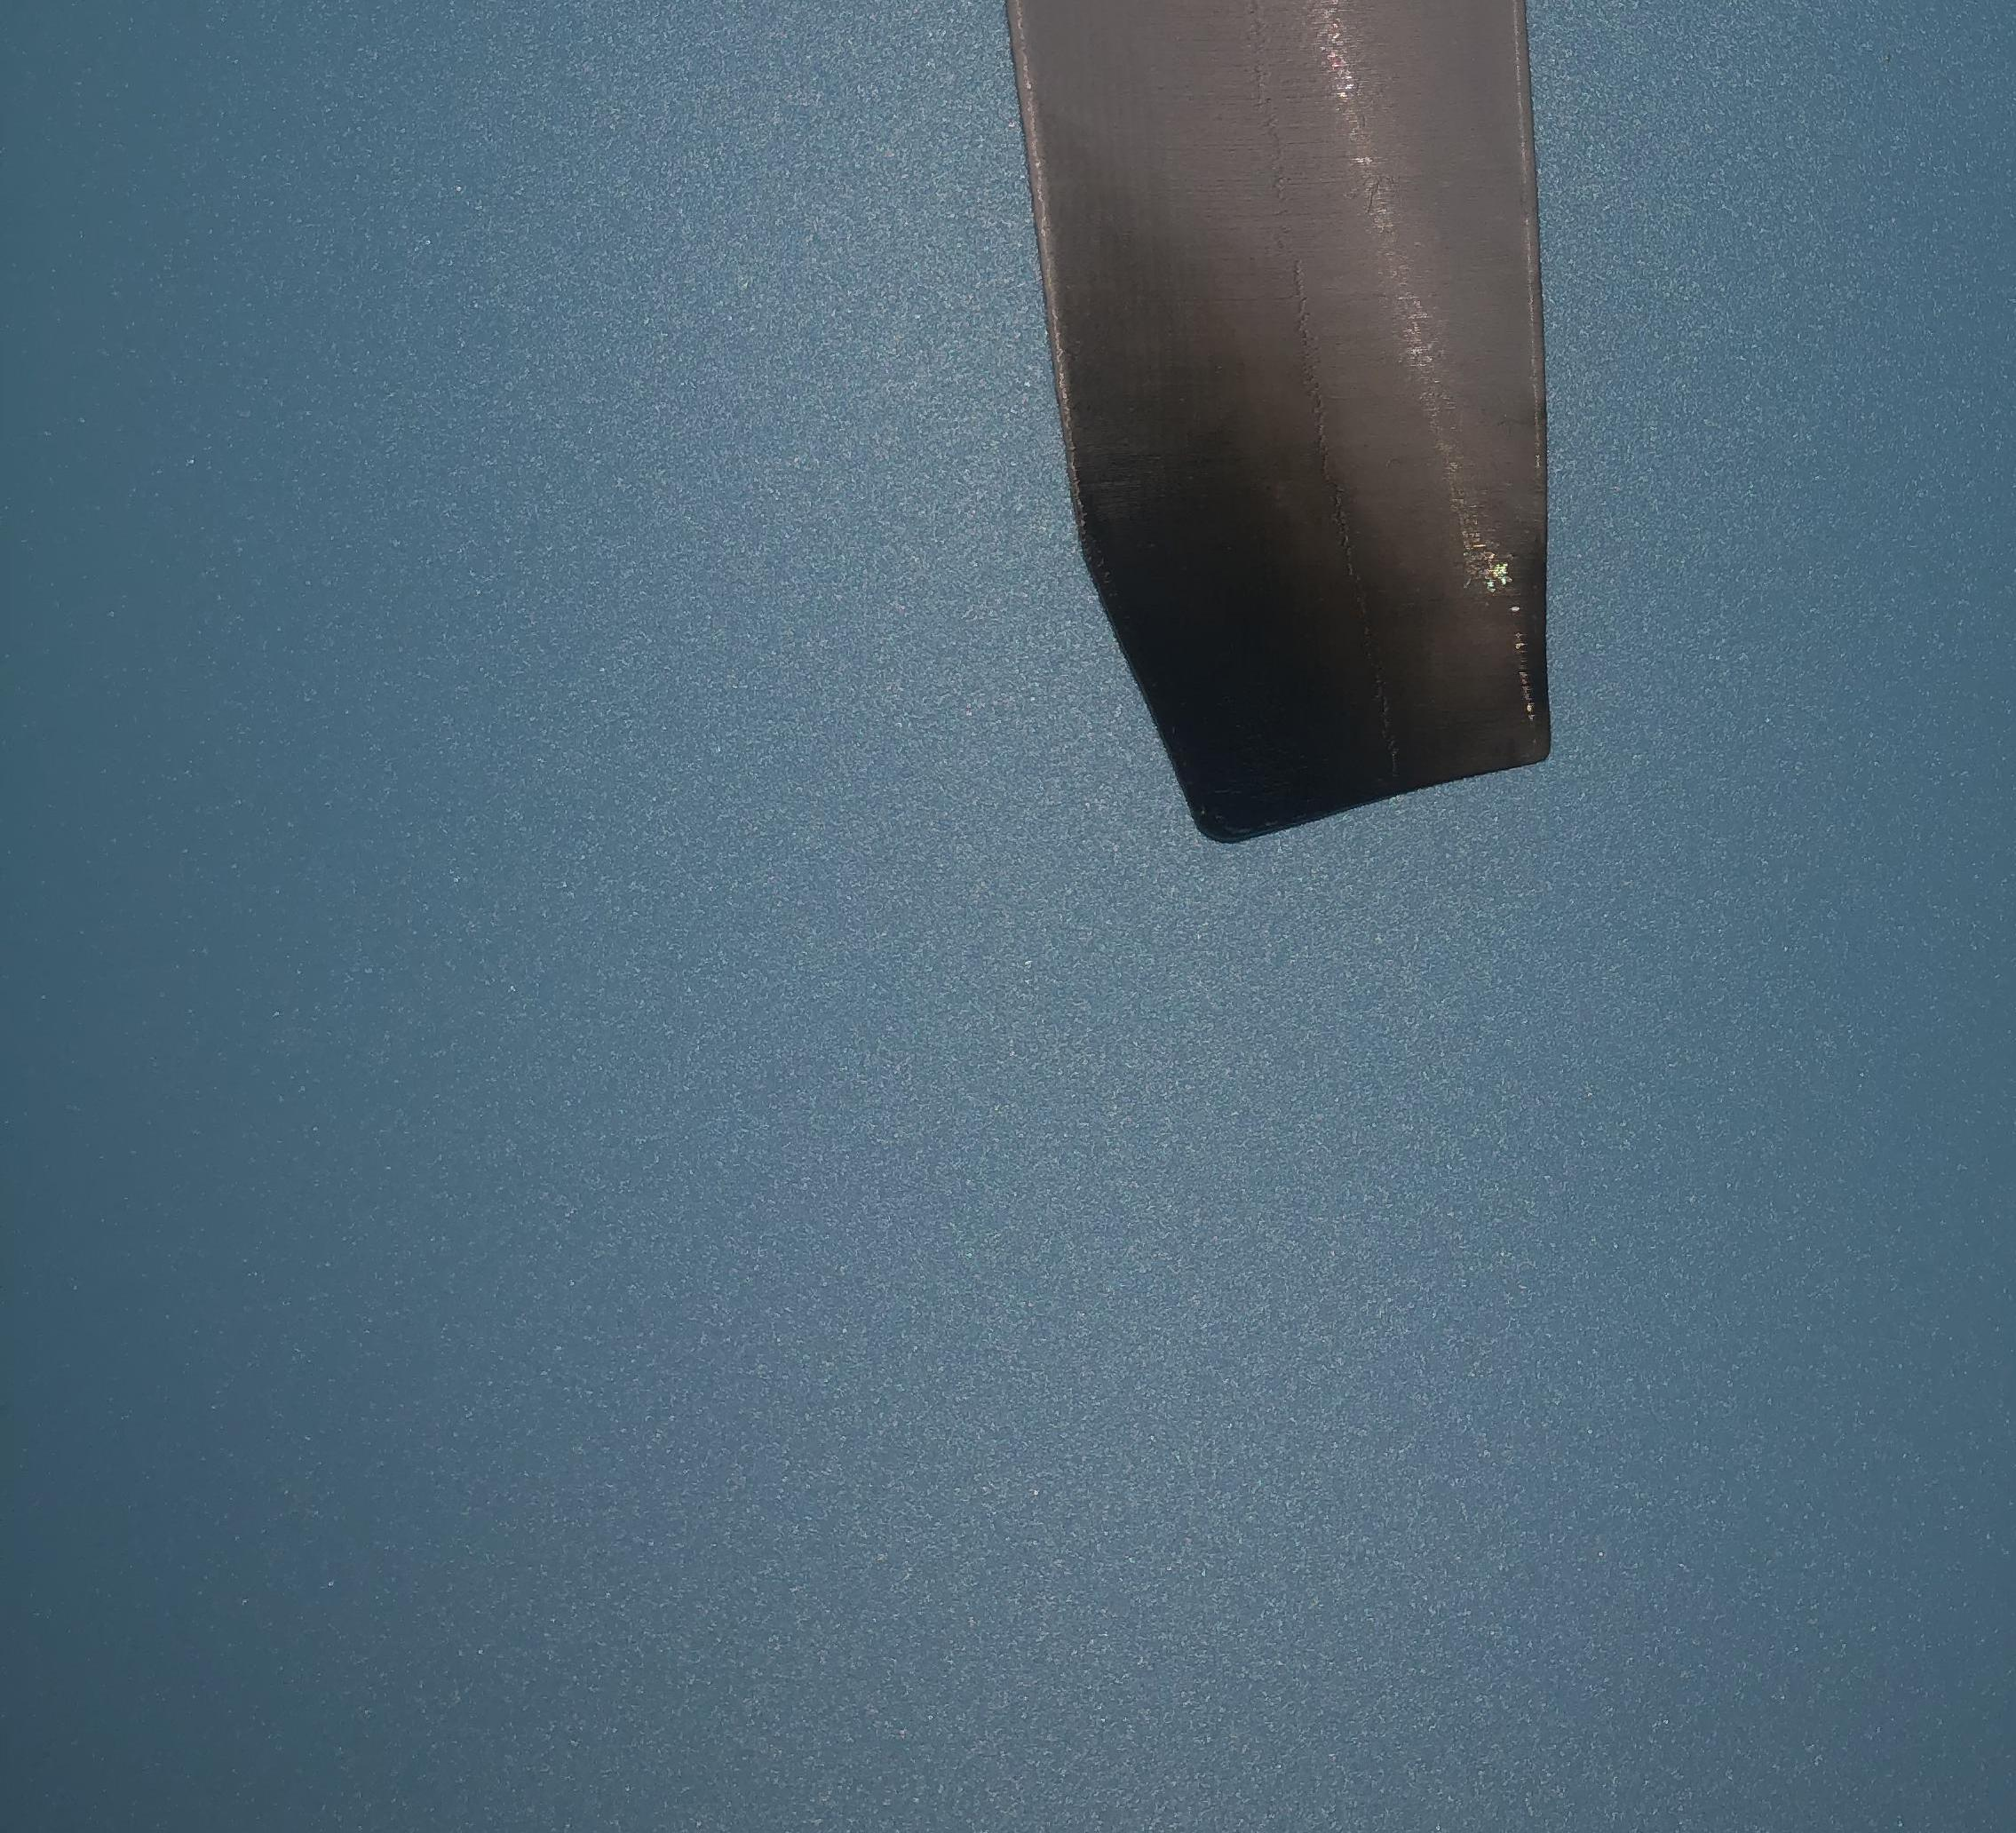ablation: (1115, 358, 1429, 748)
